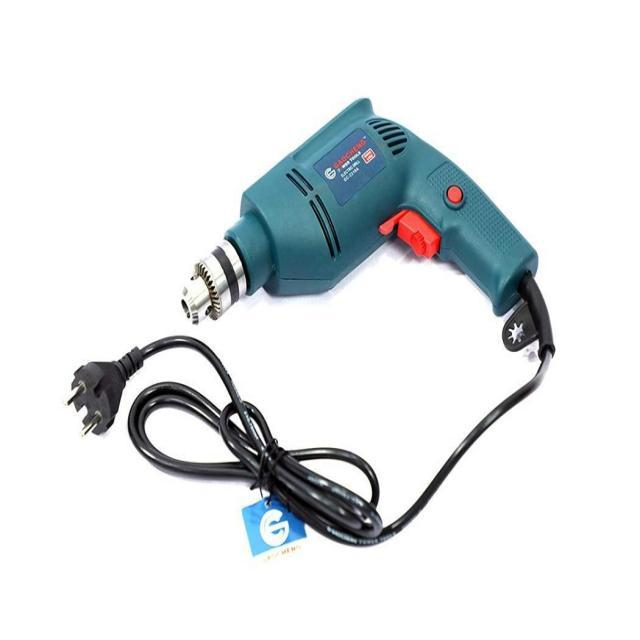drill: (180, 98, 556, 362)
